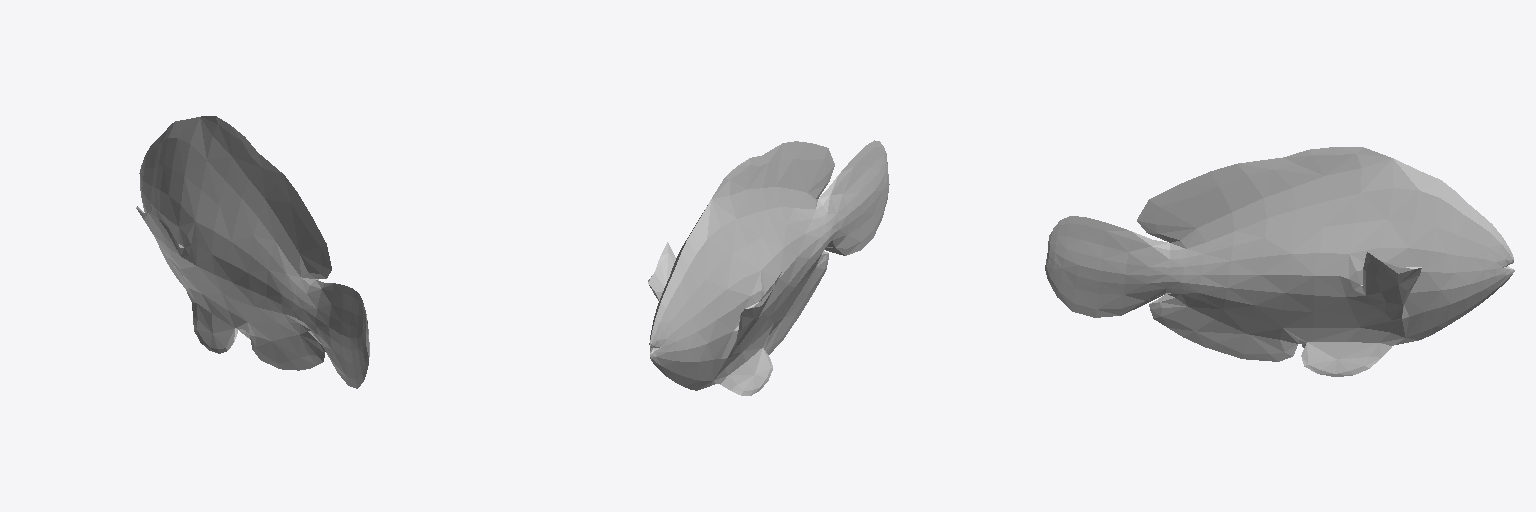
The model's file is clownfish1banim2.obj.
The picture shows the model from 3 angles: view 1: azimuth 30°, elevation 25°; view 2: azimuth 150°, elevation 25°; view 3: azimuth 270°, elevation 25°; orthographic projection.
Parts seen in each view (by area): view 1: Plane; view 2: Plane; view 3: Plane.
Part boxes in pixels (bbox=[...]): Plane: bbox=[136, 116, 369, 388]; Plane: bbox=[648, 140, 889, 395]; Plane: bbox=[1045, 147, 1514, 376].
Bounding box in the file's own units: 1.77 × 3.25 × 6.28.